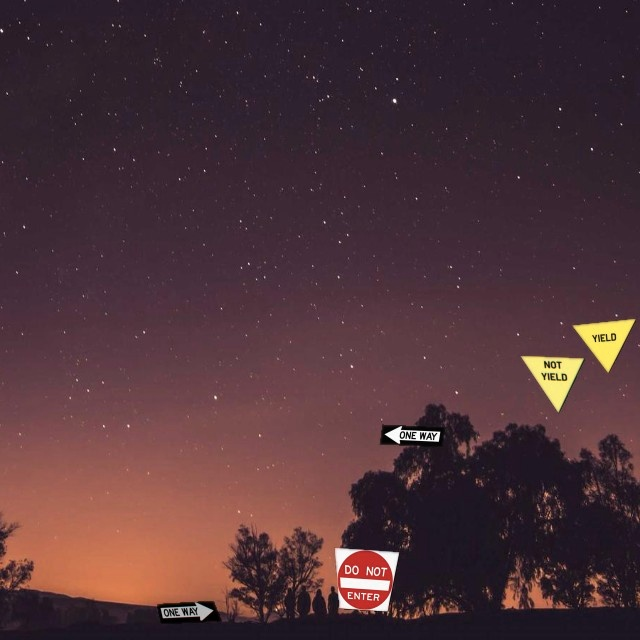DO_NOT_ENTER: (334, 547, 400, 612)
NOT_YIELD: (519, 355, 585, 414)
ONE_WAY_ left: (379, 424, 445, 447)
ONE_WAY_ right: (156, 600, 222, 624)
YIELD: (571, 318, 637, 374)
